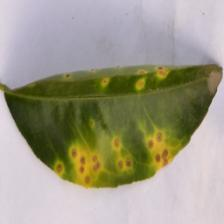canker: (32, 57, 201, 215)
